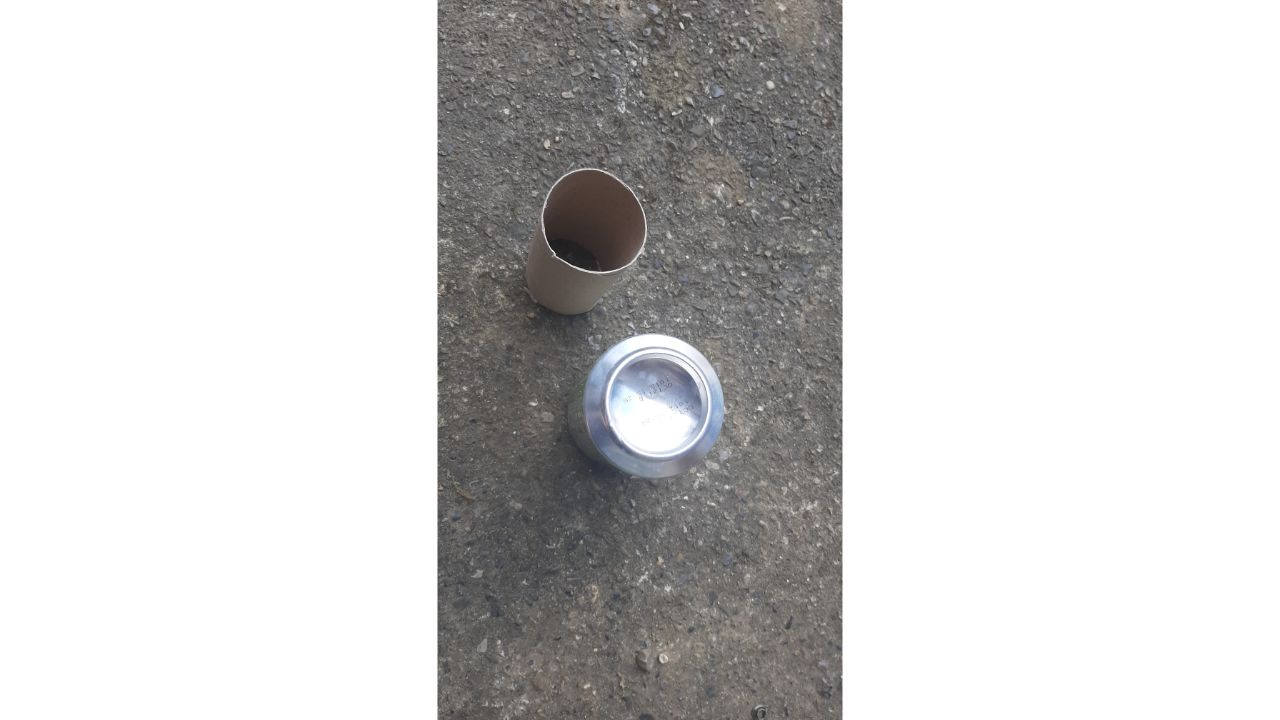Can: (560, 322, 737, 486)
